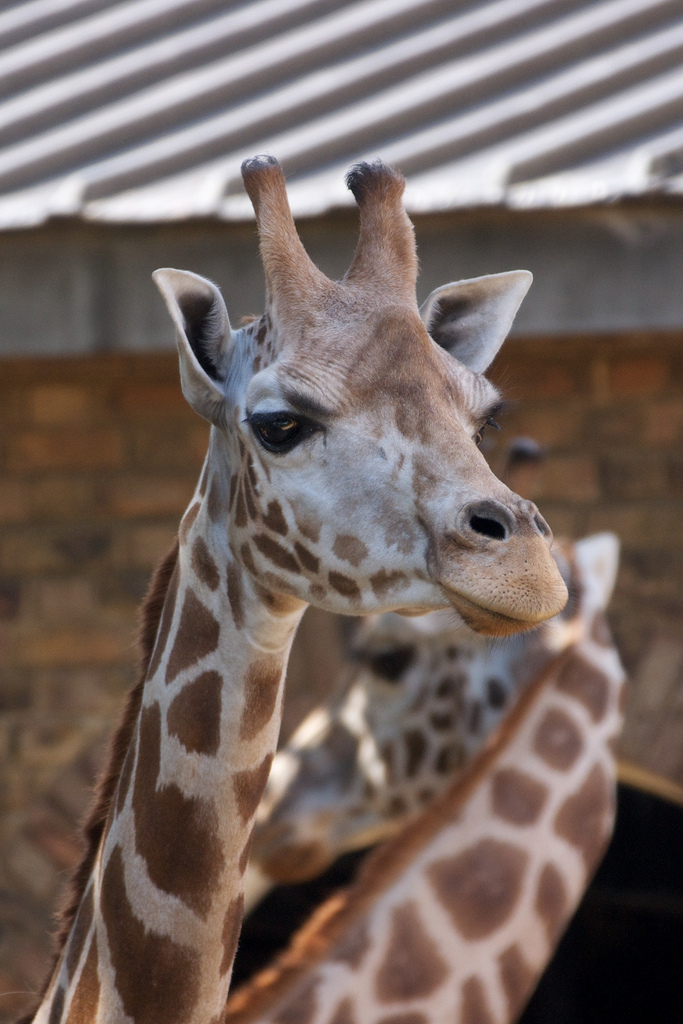giraffe: (63, 137, 550, 1014)
